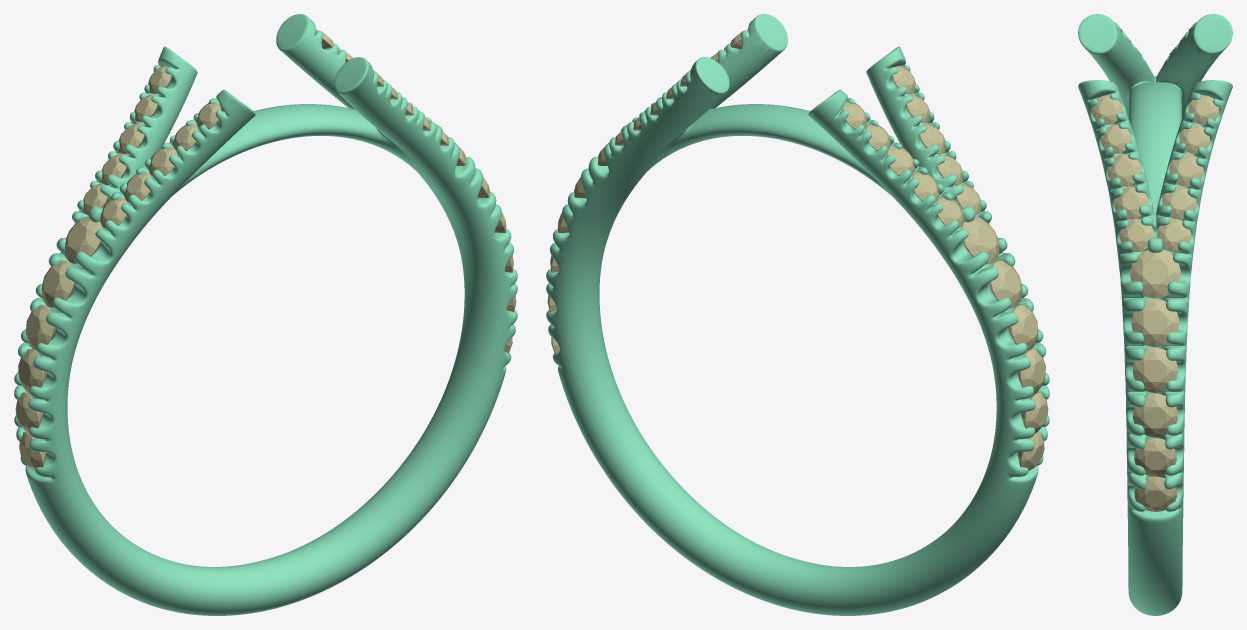
3 renders of one model, left to right at view 1: azimuth 30°, elevation 25°; view 2: azimuth 150°, elevation 25°; view 3: azimuth 270°, elevation 25°, orthographic.
Visible parts, largest first — view 1: Metal02, Diamond_Gem.021, Diamond_Gem.020, Diamond_Gem.018, Diamond_Gem.019; view 2: Metal02, Diamond_Gem.021, Diamond_Gem.020, Diamond_Gem.018, Diamond_Gem.019; view 3: Metal02, Diamond_Gem.010, Diamond_Gem.011, Diamond_Gem.013, Diamond_Gem.012, Diamond_Gem.015, Diamond_Gem.014, Diamond_Gem.009, Diamond_Gem.006, Diamond_Gem.007, Diamond_Gem.004, Diamond_Gem.008 (+5 smaller).
Part boxes in pixels (<box>): Metal02: <box>14,14,517,615</box>; Diamond_Gem.021: <box>64,216,101,263</box>; Diamond_Gem.020: <box>41,260,74,307</box>; Diamond_Gem.018: <box>25,305,55,350</box>; Diamond_Gem.019: <box>18,349,46,394</box>; Metal02: <box>546,14,1049,615</box>; Diamond_Gem.021: <box>962,216,999,263</box>; Diamond_Gem.020: <box>989,260,1022,307</box>; Diamond_Gem.018: <box>1008,305,1038,350</box>; Diamond_Gem.019: <box>1017,349,1045,394</box>; Metal02: <box>1078,14,1232,615</box>; Diamond_Gem.010: <box>1130,250,1180,298</box>; Diamond_Gem.011: <box>1131,299,1179,346</box>; Diamond_Gem.013: <box>1132,347,1177,392</box>; Diamond_Gem.012: <box>1133,393,1177,437</box>; Diamond_Gem.015: <box>1134,438,1176,476</box>; Diamond_Gem.014: <box>1134,476,1176,511</box>; Diamond_Gem.009: <box>1119,218,1154,251</box>; Diamond_Gem.006: <box>1156,218,1191,251</box>; Diamond_Gem.007: <box>1107,154,1141,186</box>; Diamond_Gem.004: <box>1169,154,1203,186</box>; Diamond_Gem.008: <box>1114,186,1148,219</box>.
Size of the model in its own units: 20.85 by 22.53 by 5.82.
